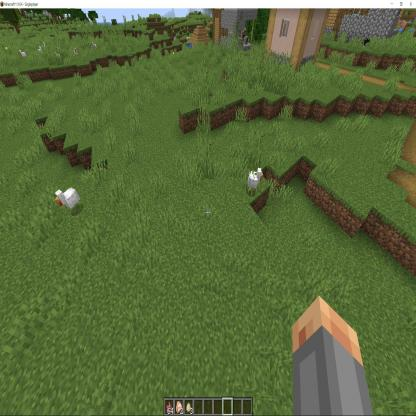minecraft-pigs: (54, 185, 82, 215), (247, 166, 264, 200), (16, 47, 28, 59), (71, 47, 79, 58), (91, 40, 97, 51), (36, 45, 43, 54), (173, 34, 176, 44)
